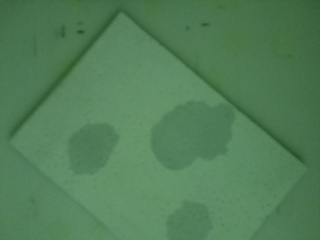Water_detected: (157, 101, 219, 162), (77, 126, 115, 166), (177, 196, 200, 229)
